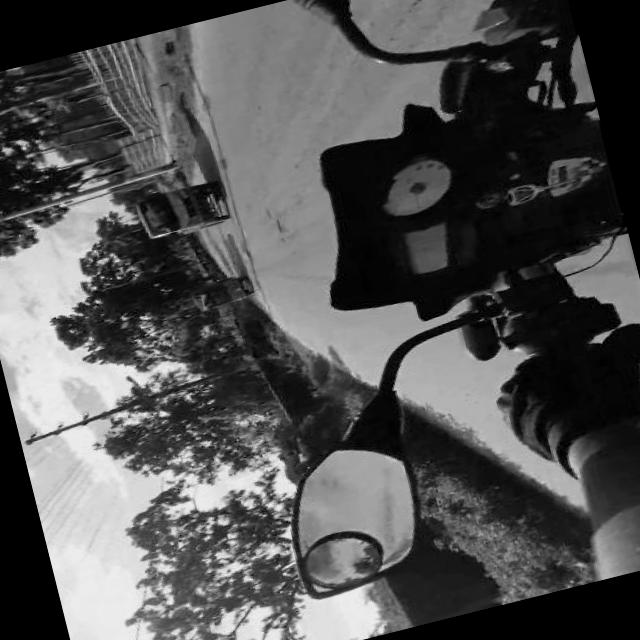motorcycle: (164, 0, 640, 605), (189, 272, 252, 314)
truck: (132, 178, 228, 242)
